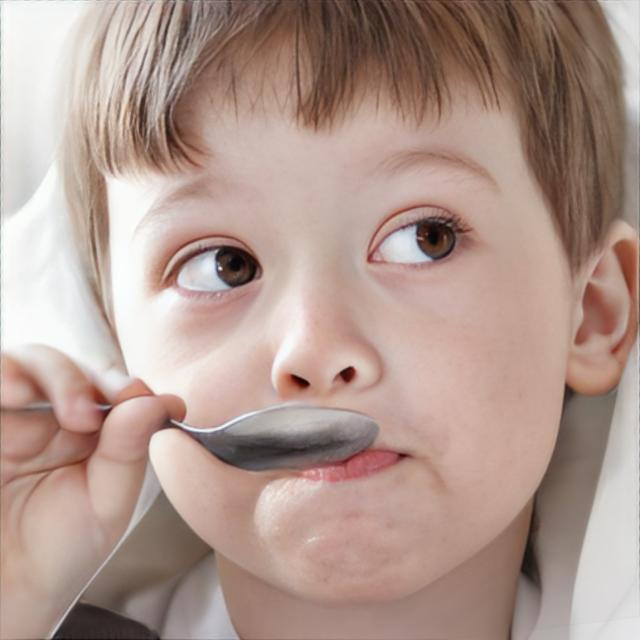surprise: (105, 0, 570, 608)
